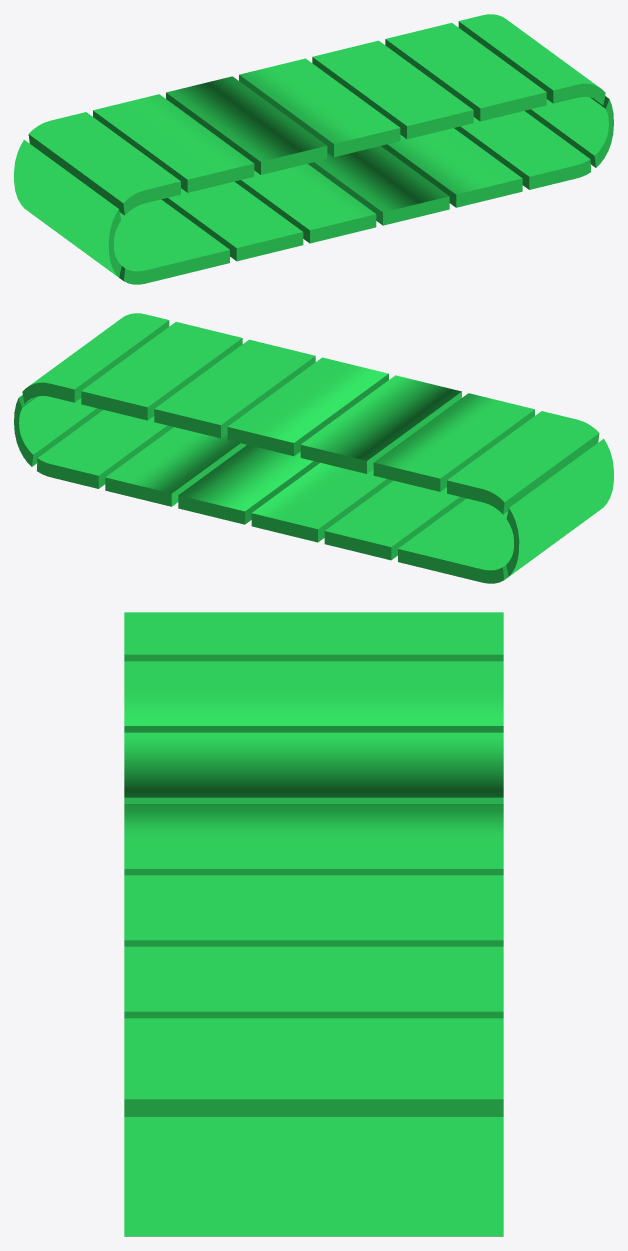
Rendered from A_Tapis_Roulant.fbx.
3 renders of one model, top to bottom at view 1: azimuth 30°, elevation 25°; view 2: azimuth 150°, elevation 25°; view 3: azimuth 270°, elevation 25°, orthographic. The views are drawn at different scales.
Parts seen in each view (by area): view 1: Plane.004; view 2: Plane.004; view 3: Plane.004.
Part boxes in pixels (left/top/right/bottom): Plane.004: left=14, top=14, right=613, bottom=284; Plane.004: left=14, top=313, right=613, bottom=583; Plane.004: left=124, top=612, right=503, bottom=1236.
Size of the model in its own units: 390 by 69.11 by 127.
